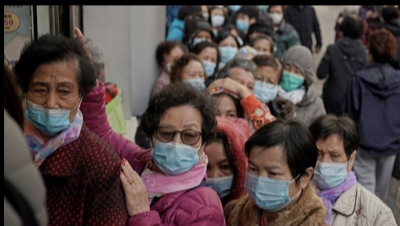mask_weared_incorrect: (24, 76, 80, 134)
with_mask: (154, 119, 201, 176), (245, 158, 295, 210), (313, 145, 349, 190), (205, 154, 234, 197), (254, 72, 279, 104), (280, 65, 306, 92), (182, 70, 208, 92), (218, 40, 238, 62), (200, 53, 218, 77), (236, 16, 252, 31), (211, 13, 226, 27), (270, 11, 285, 24)
